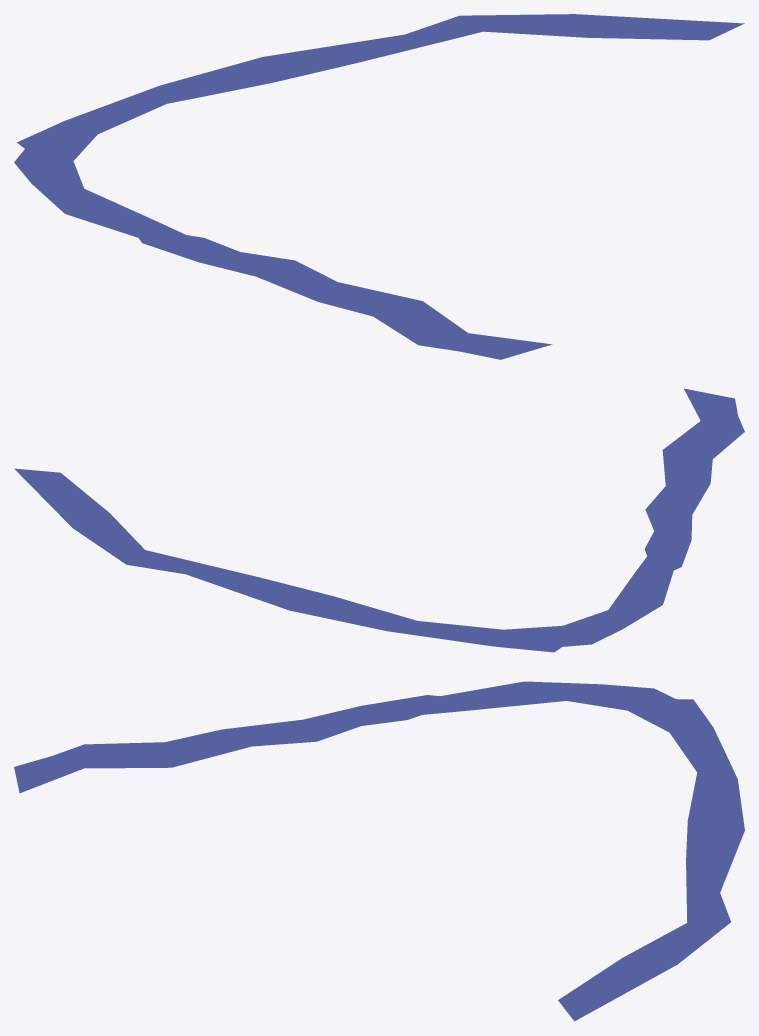
File: RIVER.glb
The picture shows the model from 3 angles, top to bottom: view 1: azimuth 30°, elevation 25°; view 2: azimuth 150°, elevation 25°; view 3: azimuth 270°, elevation 25°; orthographic projection. The views are drawn at different scales.
Parts seen in each view (by area): view 1: RIVERS; view 2: RIVERS; view 3: RIVERS.
Part boxes in pixels (bbox=[...]): RIVERS: bbox=[14, 14, 744, 359]; RIVERS: bbox=[14, 388, 744, 652]; RIVERS: bbox=[14, 681, 744, 1021].
Bounding box in the file's own units: 58.32 × 0 × 52.99.
